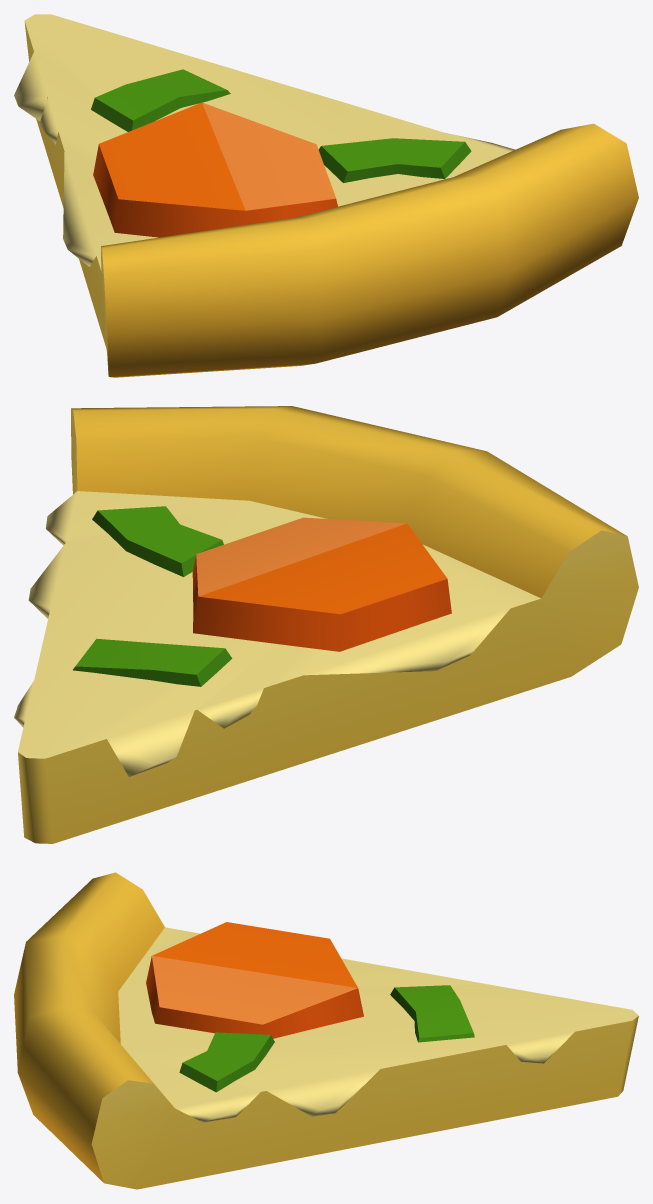
The model's file is SliceOfPizza.fbx.
3 views of the same model, one above another, from view 1: azimuth 30°, elevation 25°; view 2: azimuth 150°, elevation 25°; view 3: azimuth 270°, elevation 25° (orthographic). The views are drawn at different scales.
Visible parts, largest first — view 1: SliceOfPizza; view 2: SliceOfPizza; view 3: SliceOfPizza.
Part boxes in pixels (box(x1,y1,x2,y2)): SliceOfPizza: box(14, 14, 638, 377); SliceOfPizza: box(14, 406, 638, 843); SliceOfPizza: box(14, 872, 638, 1189).
Size of the model in its own units: 3.25 by 0.8677 by 3.87.
